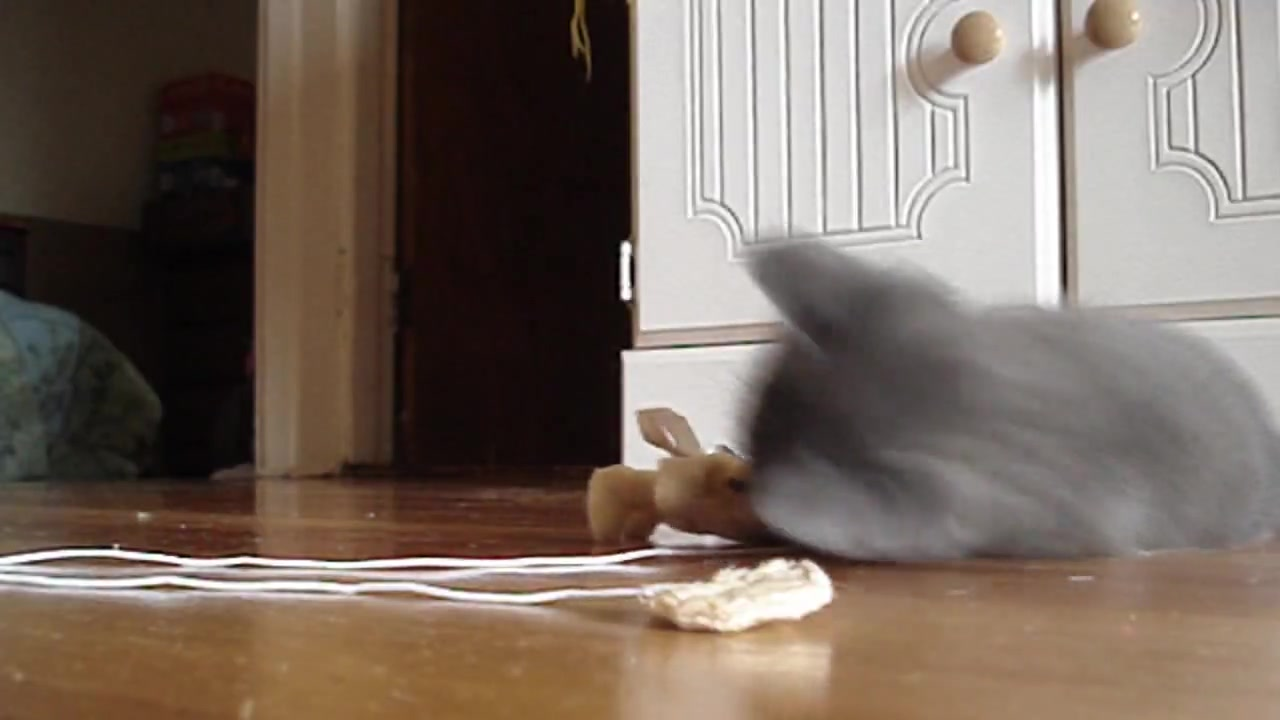cat: (726, 230, 1280, 575)
